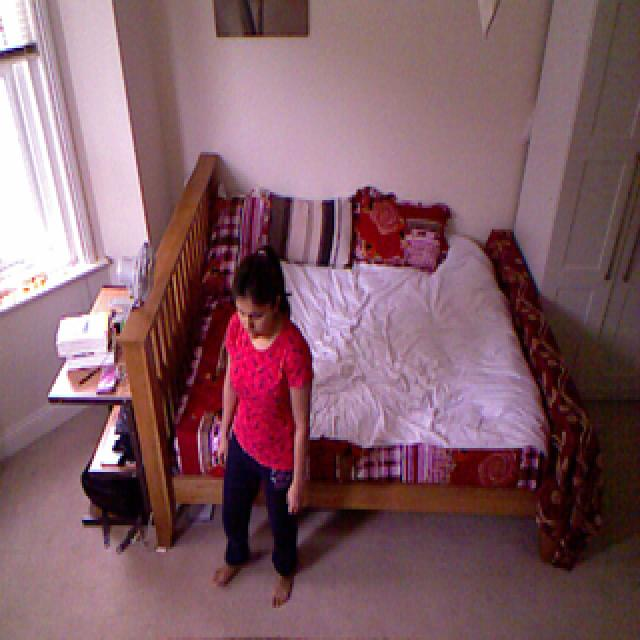standing: (218, 254, 315, 590)
